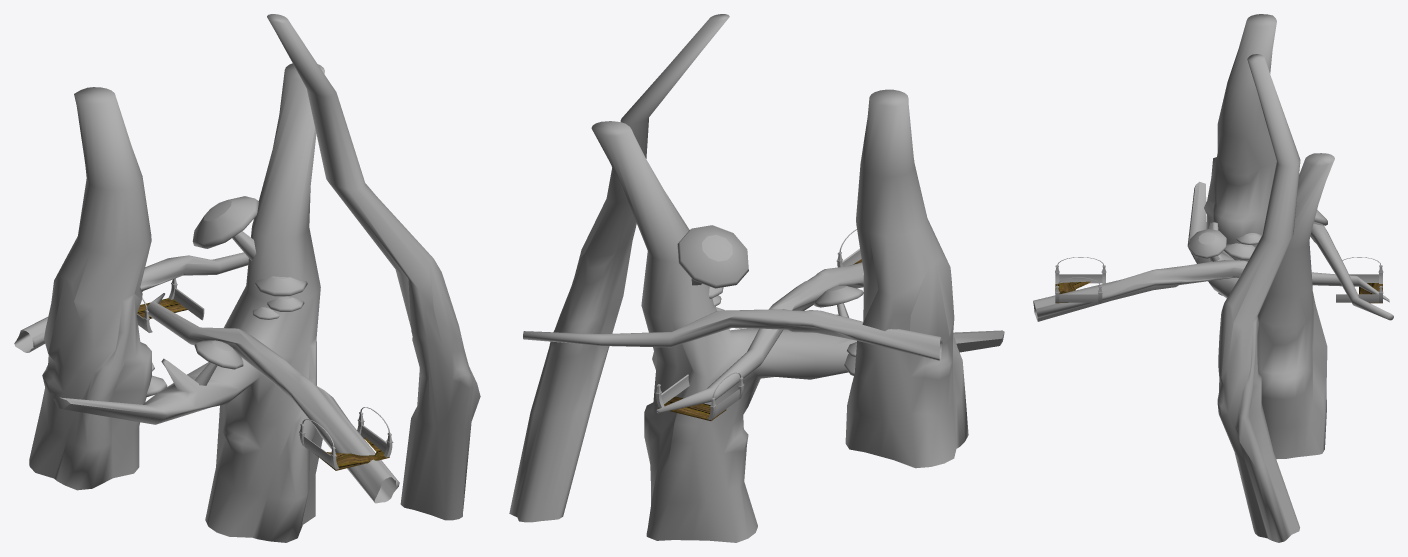
File: fairyland_straight_tree.fbx
3 views of the same model, side by side, from view 1: azimuth 30°, elevation 25°; view 2: azimuth 150°, elevation 25°; view 3: azimuth 270°, elevation 25° (orthographic). The views are drawn at different scales.
Visible parts, largest first — view 1: pCylinder7, pCylinder22, pCylinder26, pCylinder50, pCylinder25, pCylinder16, pCylinder51, pCube2, pCylinder17; view 2: pCylinder7, pCylinder22, pCylinder26, pCylinder25, pCylinder50, pCylinder16, pCylinder51; view 3: pCylinder26, pCylinder7, pCylinder22, pCylinder50, pCylinder25, pCylinder51, pCube2.
Part boxes in pixels (x1,y1,x2,y2): pCylinder7: (53, 63, 324, 542); pCylinder22: (29, 87, 151, 490); pCylinder26: (267, 14, 480, 520); pCylinder50: (147, 293, 399, 503); pCylinder25: (14, 252, 248, 352); pCylinder16: (192, 196, 258, 260); pCylinder51: (194, 340, 243, 385); pCube2: (137, 298, 389, 470); pCylinder17: (255, 276, 307, 296); pCylinder7: (591, 121, 1004, 542); pCylinder22: (845, 89, 968, 468); pCylinder26: (509, 14, 729, 522); pCylinder25: (523, 309, 942, 360); pCylinder50: (656, 262, 863, 413); pCylinder16: (677, 225, 748, 288); pCylinder51: (814, 285, 863, 317); pCylinder26: (1217, 54, 1300, 542); pCylinder7: (1187, 153, 1334, 459); pCylinder22: (1204, 14, 1276, 295); pCylinder50: (1033, 260, 1389, 321); pCylinder25: (1310, 223, 1393, 320); pCylinder51: (1189, 229, 1226, 261); pCube2: (1055, 281, 1382, 303).
Bounding box in the file's own units: 44.27 × 50.54 × 40.12.
